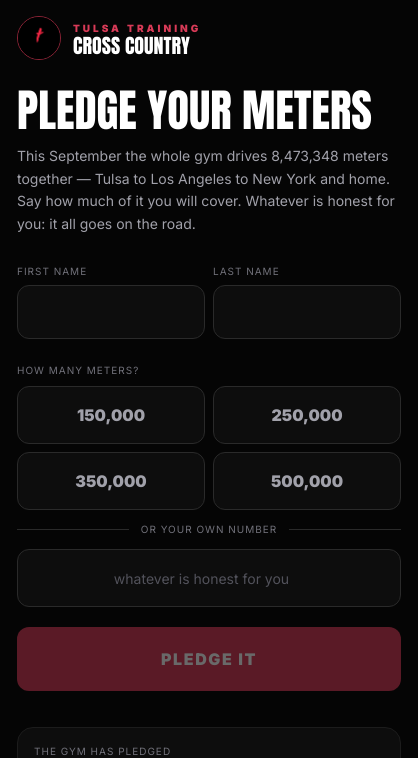
Test: when it goes wrong › says so, and does not lose what they typed
Type "Dana" into the field labelled "First name" at (111, 312), box [17,285,205,339]
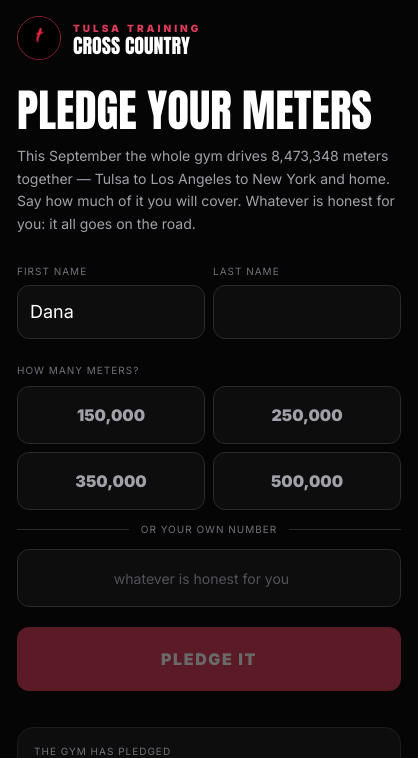
Type "Reyes" into the field labelled "Last name" at (307, 312), box [213,285,401,339]
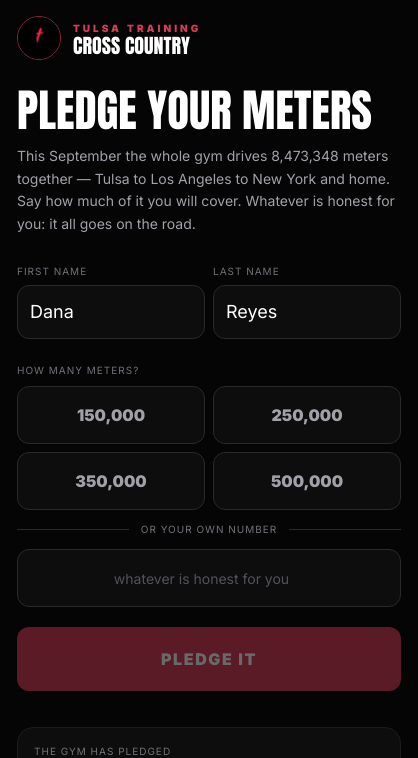
Click the button "150,000" at (111, 415), box [17,386,205,444]
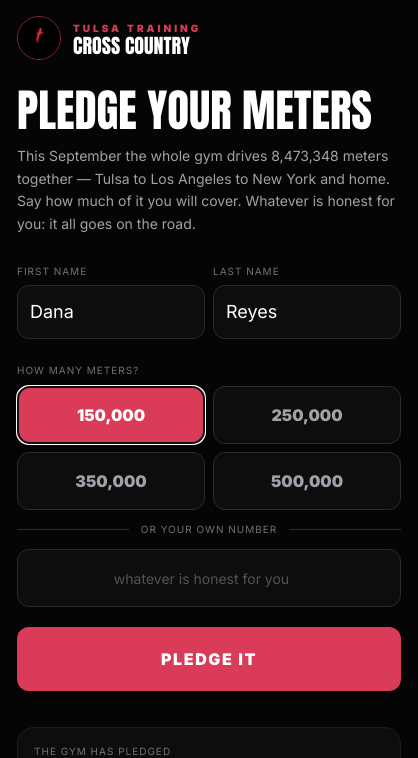
Click the button "Pledge it" at (209, 659), box [17,627,401,691]
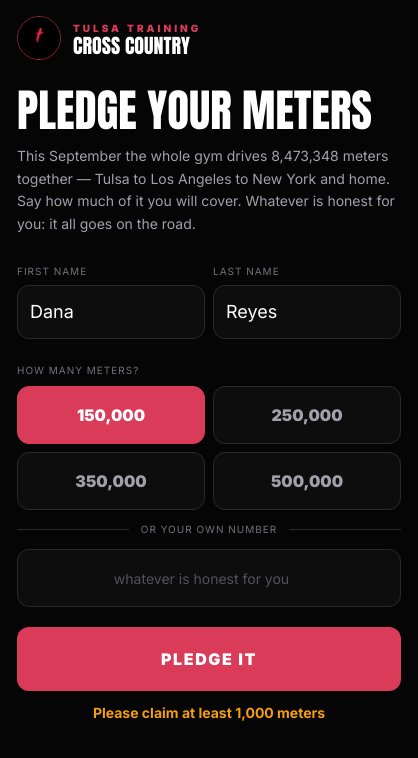
Expected: the text "Please claim at least 1,000 meters" is shown, [93,704,325,721]
